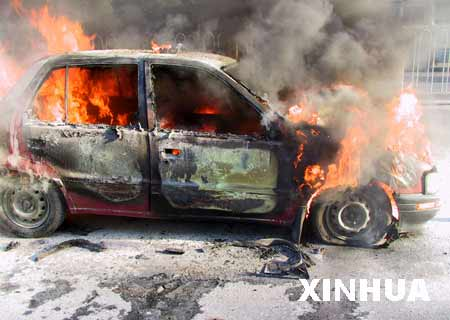fire: (20, 11, 137, 136)
fire1: (294, 85, 429, 204)
smoke: (182, 7, 431, 63)
